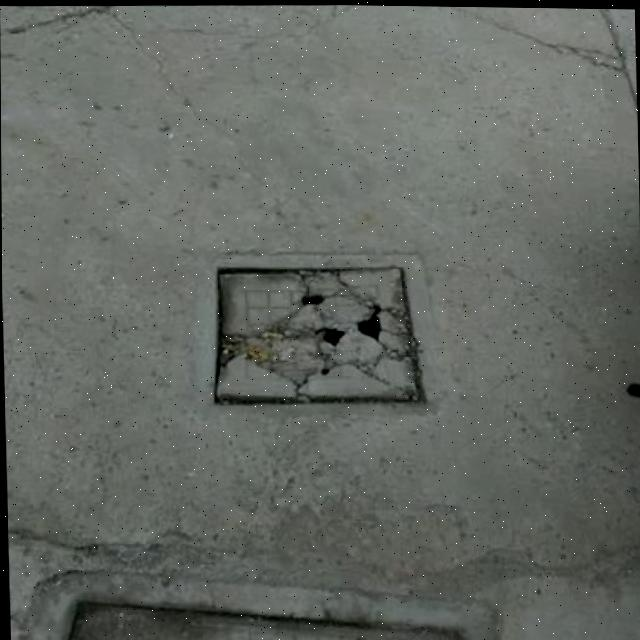manhole: (190, 238, 445, 421)
